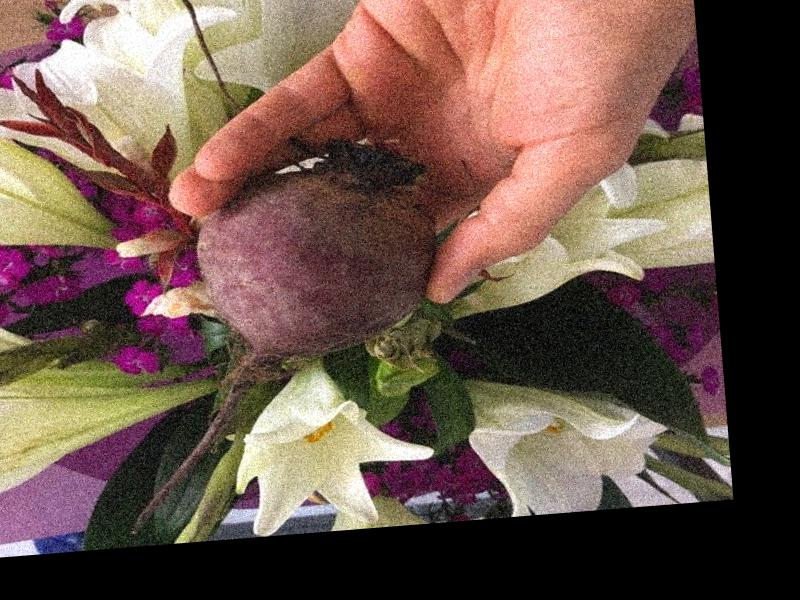Beet: (100, 134, 456, 531)
